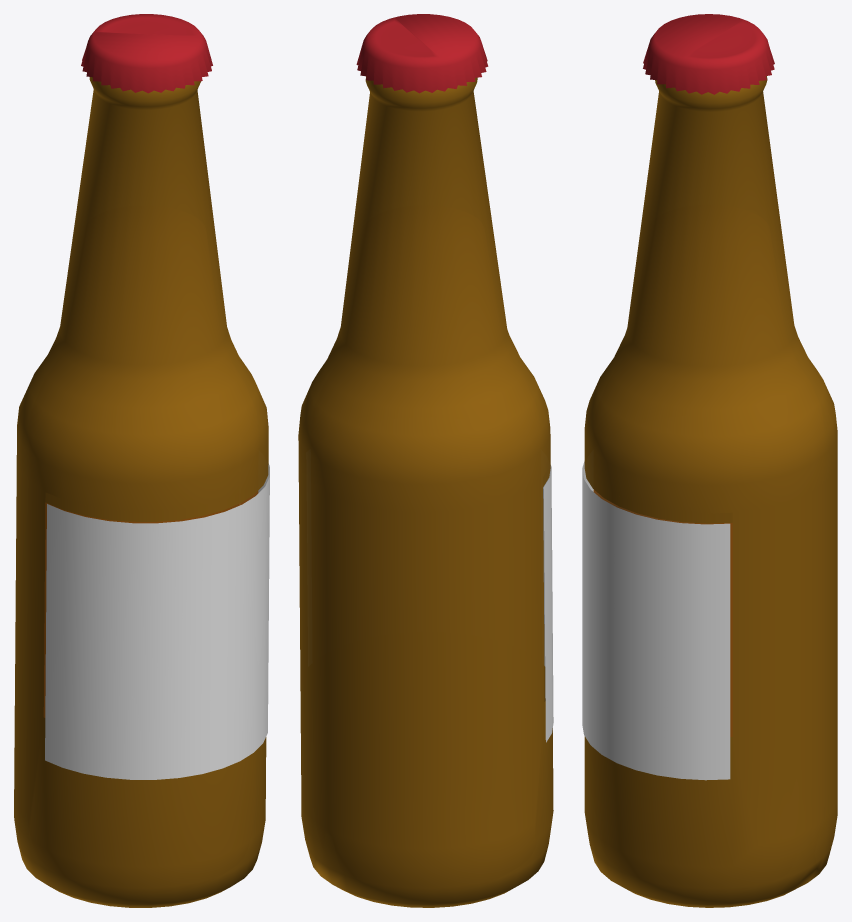
The model's file is beer_bottle.glb.
3 views of the same model, side by side, from view 1: azimuth 30°, elevation 25°; view 2: azimuth 150°, elevation 25°; view 3: azimuth 270°, elevation 25° (orthographic).
Visible parts, largest first — view 1: object 1, object 4, tapa.003_1, object 3; view 2: object 1, tapa.003_1, object 4; view 3: object 1, object 4, tapa.003_1, object 3.
Boxes of the visible parts, box(x1,y1,x2,y2) form: object 1: box(14, 77, 268, 907); object 4: box(45, 464, 269, 779); tapa.003_1: box(81, 14, 212, 93); object 3: box(43, 491, 258, 717); object 1: box(298, 76, 553, 907); tapa.003_1: box(356, 14, 488, 93); object 4: box(543, 465, 553, 742); object 1: box(584, 76, 837, 907); object 4: box(582, 461, 730, 780); tapa.003_1: box(643, 14, 774, 94); object 3: box(593, 489, 732, 736).
Size of the model in its own units: 23.9 by 85.73 by 23.77.
